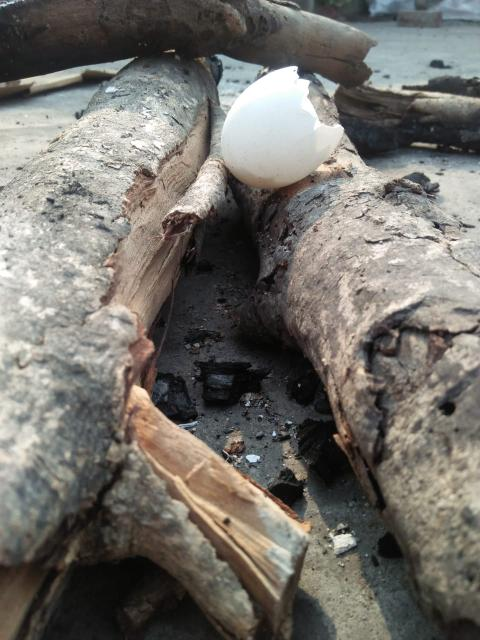Roto: (220, 64, 344, 190)
